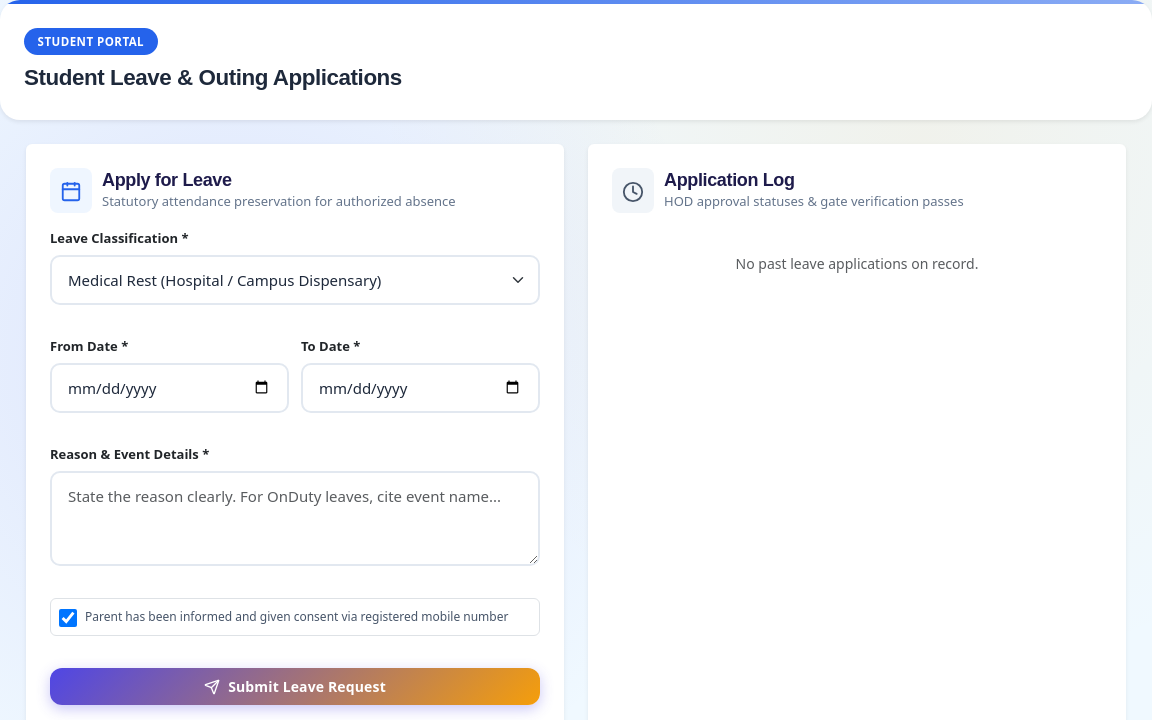
Test case: LeaveApplicationPage Component Tests › submits student leave request via API and shows success notification
Expected: the heading "Apply for Leave" is shown, top-left (102, 170), bottom-right (232, 190)
Type "2026-12-01" into the date field labelled "From Date *" at x=170, y=388, box top-left (50, 362), bottom-right (289, 413)
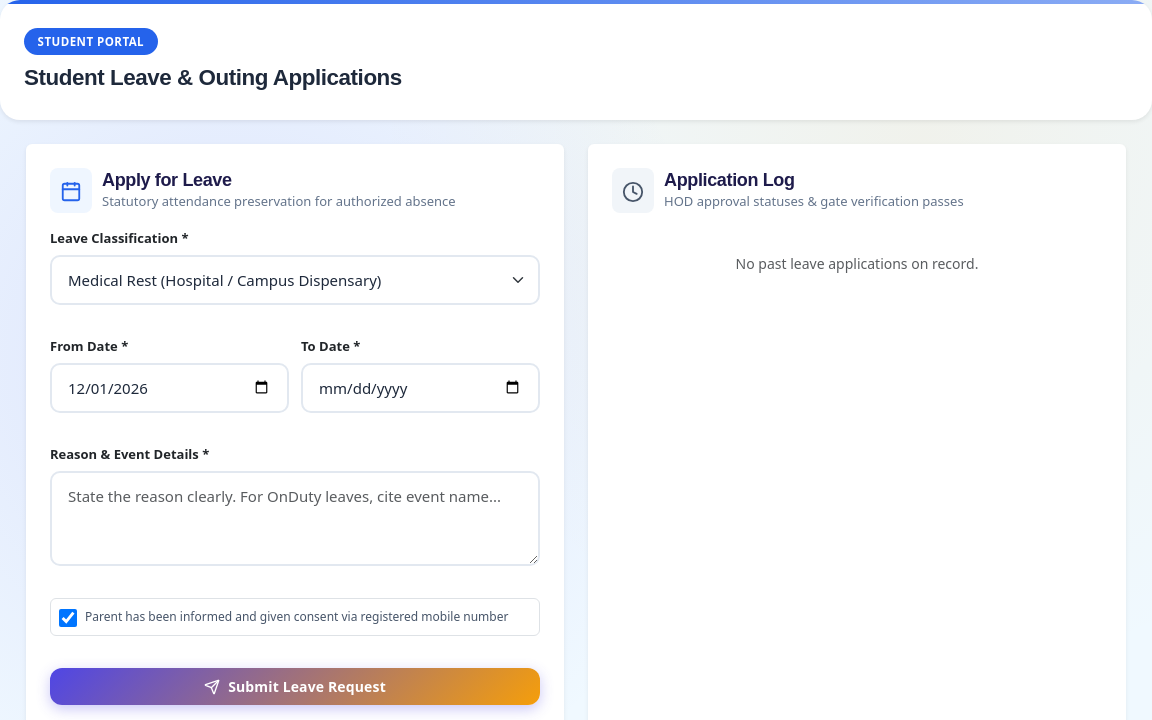
Type "2026-12-03" into the date field labelled "To Date *" at x=420, y=388, box top-left (301, 362), bottom-right (540, 413)
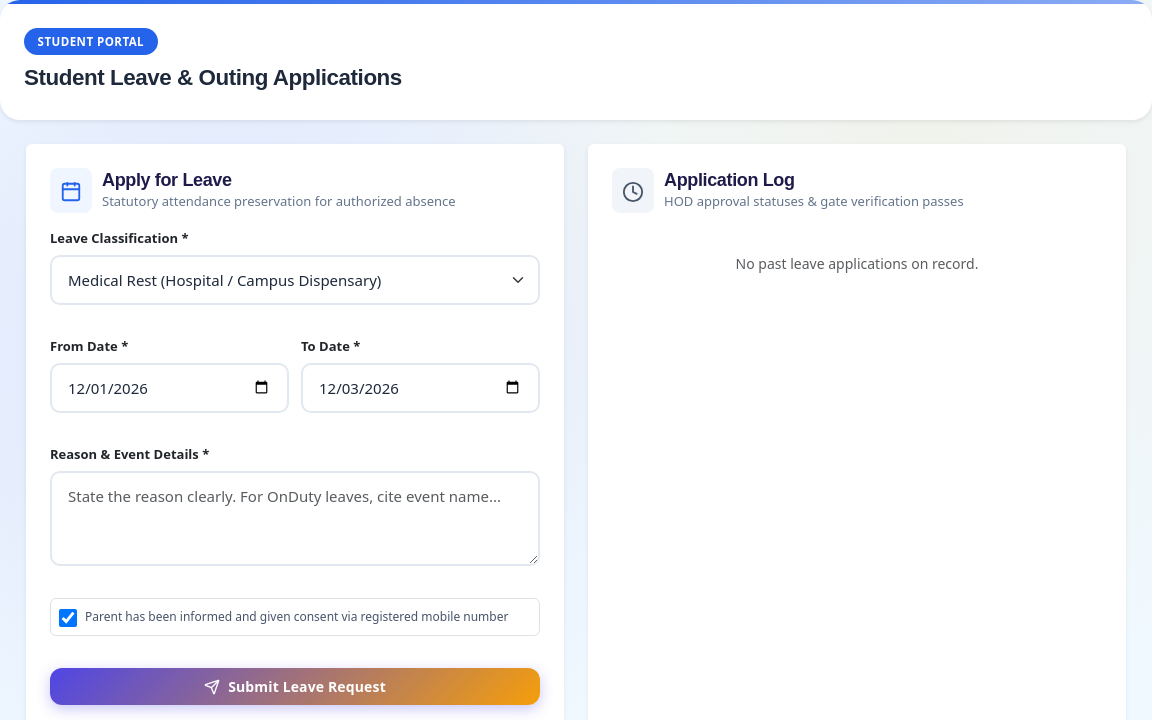
Replace the text in the text box labelled "Reason & Event Details *" with "Dengue recovery" at x=295, y=518, box top-left (50, 470), bottom-right (540, 566)
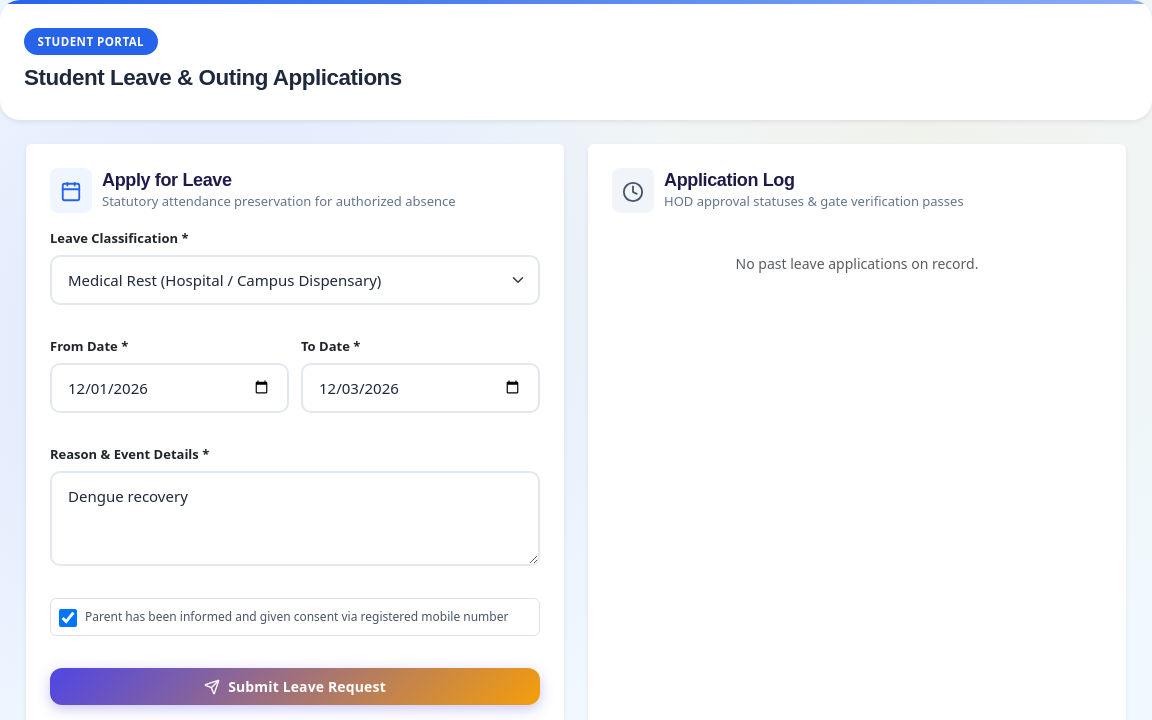
Submit the form named "Submit Leave Request", box top-left (50, 229), bottom-right (540, 705)
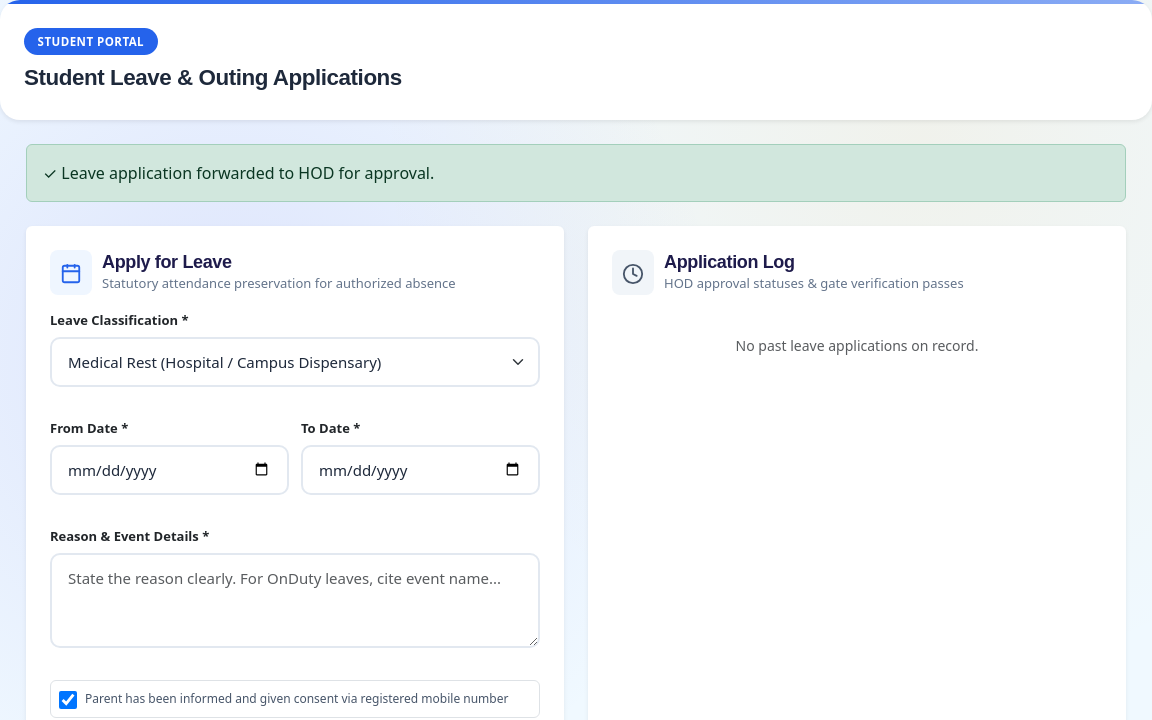
Expected: the text "✓ Leave application forwarded to HOD for approval." is shown, top-left (26, 144), bottom-right (1126, 202)
